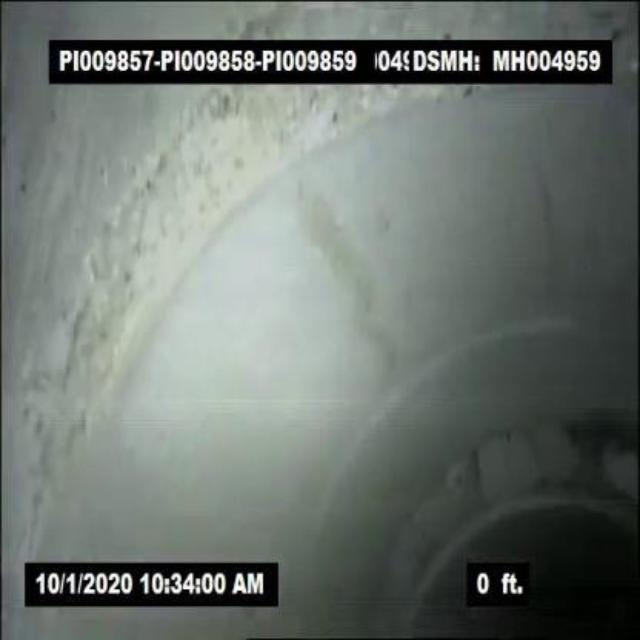Crack: (303, 203, 400, 378)
Joint offset: (392, 412, 635, 560)
